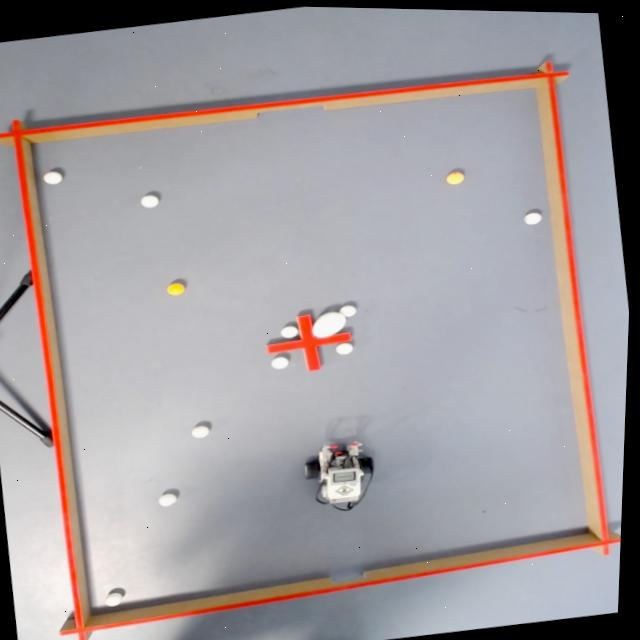boundaries: (0, 58, 621, 640), (33, 86, 589, 614)
cross: (265, 313, 352, 371)
egg: (310, 308, 349, 338)
large_goal: (243, 91, 337, 123)
orange_ball: (444, 170, 467, 186), (164, 280, 186, 296)
robot: (299, 435, 383, 516)
small_goal: (323, 568, 372, 591)
white_ball: (521, 208, 545, 226), (138, 192, 163, 209), (156, 490, 179, 508), (189, 422, 212, 440), (41, 169, 64, 186), (278, 322, 301, 339), (103, 590, 124, 608), (268, 354, 291, 370), (338, 302, 359, 319), (334, 340, 355, 356)
